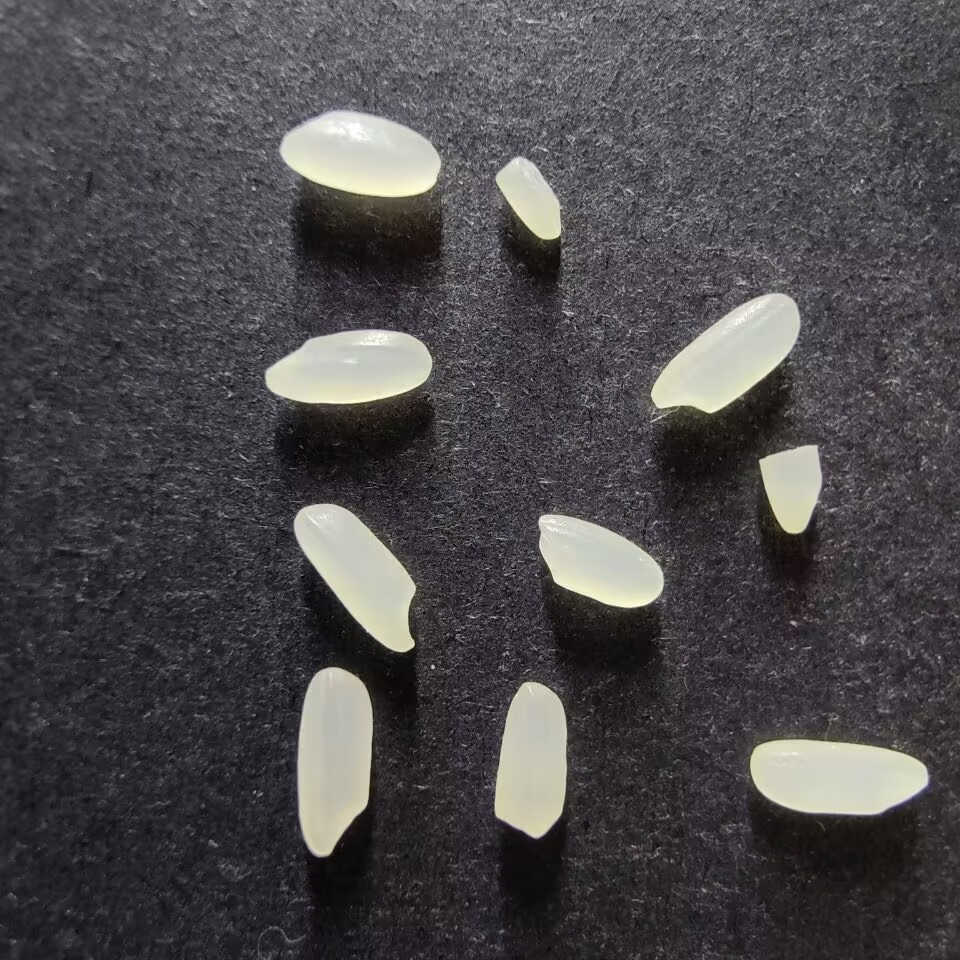broken: (494, 155, 563, 241), (758, 443, 822, 534)
rice: (292, 502, 419, 653), (650, 292, 801, 413), (295, 667, 373, 857), (279, 109, 440, 197), (749, 738, 929, 816), (264, 328, 432, 404), (536, 512, 666, 608), (493, 681, 567, 839)
